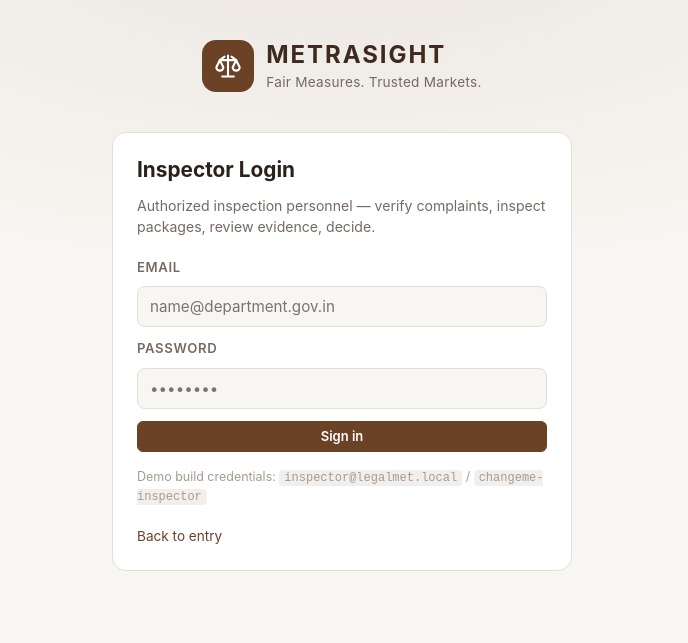
Test: LoginPage (staff authentication) › shows the backend rejection honestly and stays on the login page
The width and height of the screenshot is (688, 643).
In the field labelled "Email": (342, 307) [137,286,547,327], type "inspector@legalmet.local"
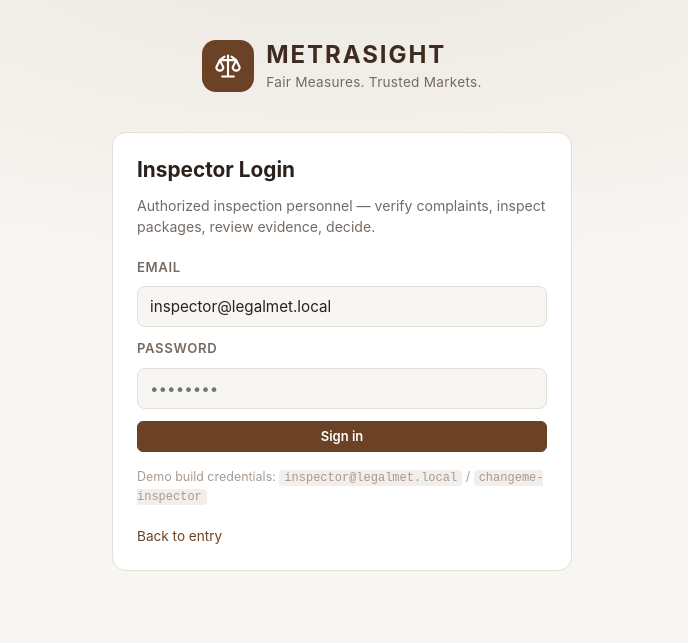
In the password field labelled "Password": (342, 388) [137,368,547,409], type "wrong-password"
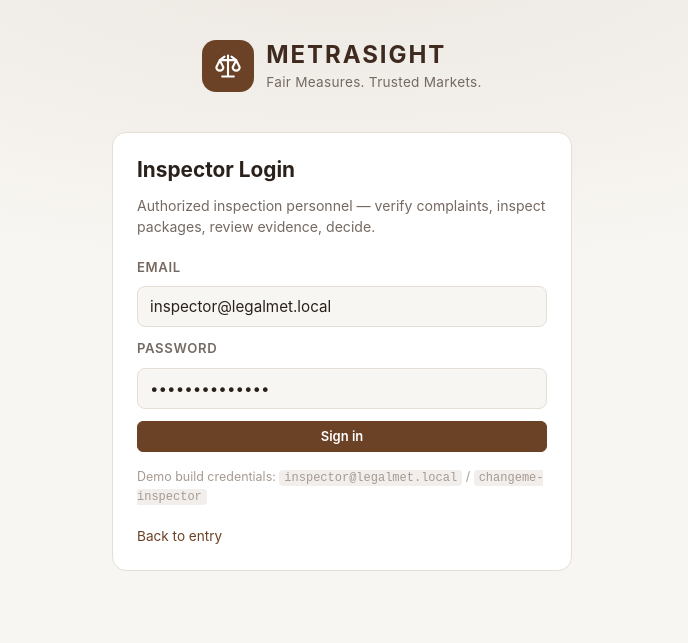
Click the button "Sign in": click(342, 436) [137,421,547,452]
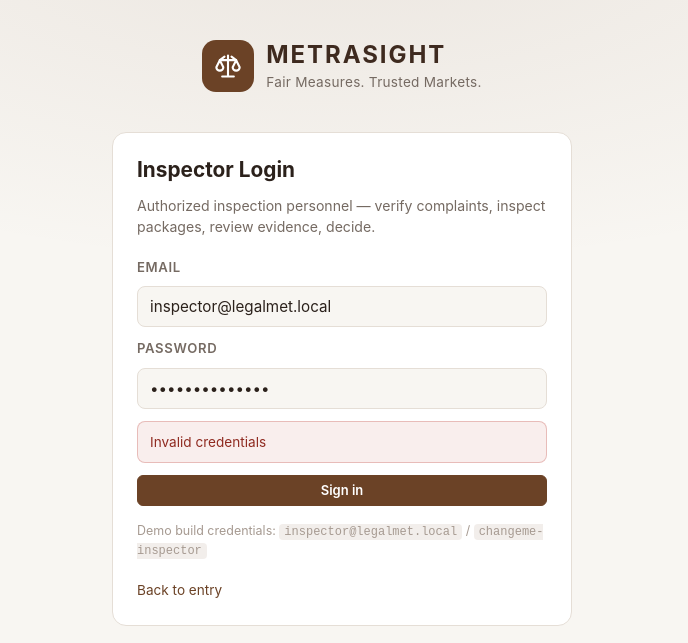
Expected: the heading "Inspector Login" is shown, [137,157,295,182]
Result: the message "Invalid credentials" is shown at [137,421,547,463]
Result: the message reads "Invalid credentials" at [150,434,266,450]
